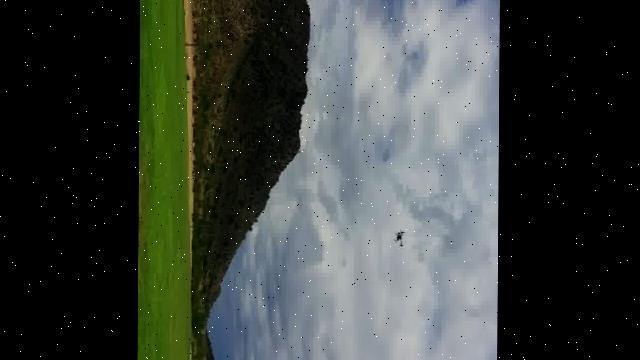drone: (395, 228, 407, 248)
